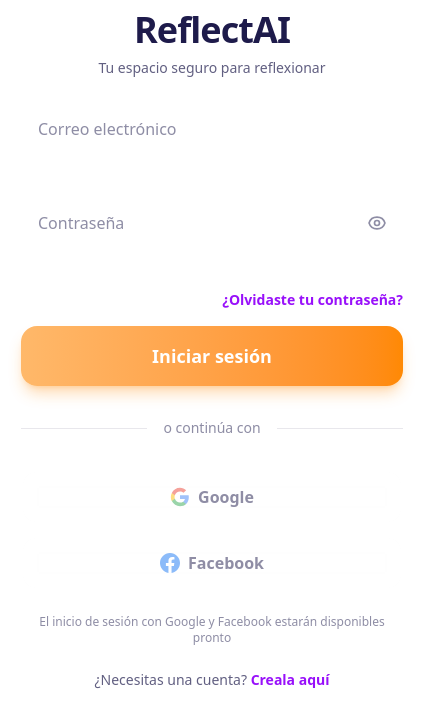
LoginPage › validates required fields when submitting an empty form
Click the button "Iniciar sesión": (212, 356) [21, 326, 403, 386]
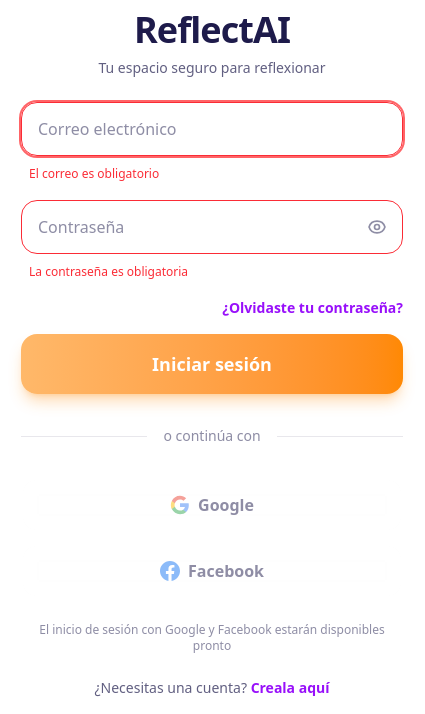
Expected: the text "El correo es obligatorio" is shown, [29, 165, 159, 182]
